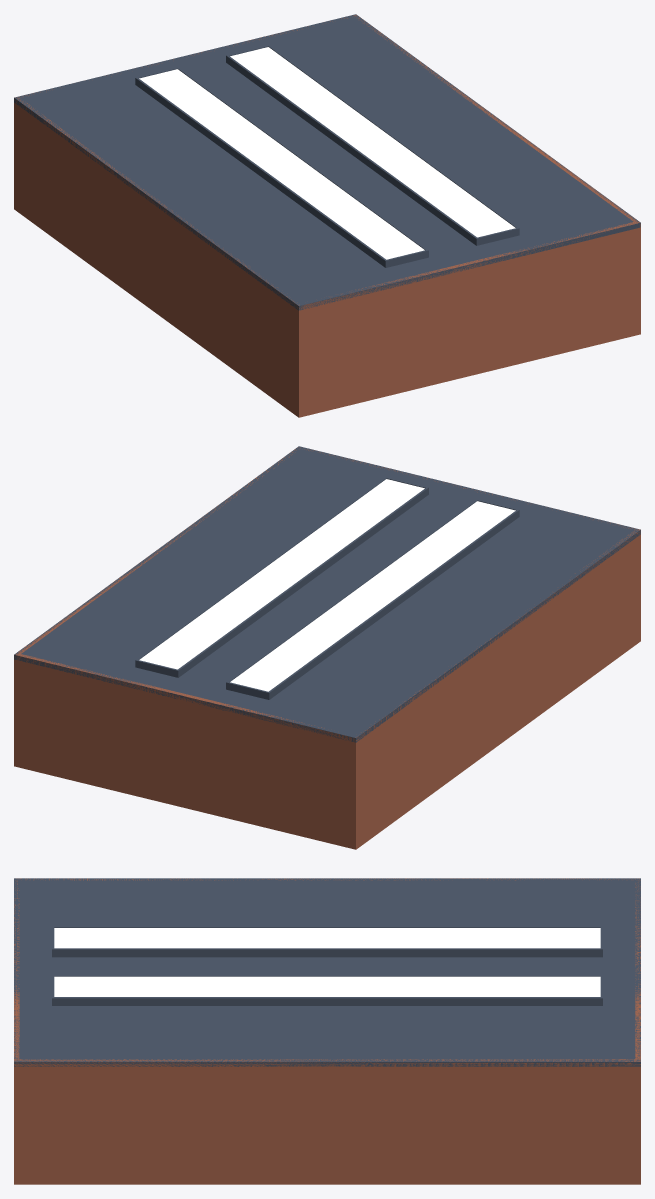
The model's file is map_lockwell.glb.
3 renders of one model, top to bottom at view 1: azimuth 30°, elevation 25°; view 2: azimuth 150°, elevation 25°; view 3: azimuth 270°, elevation 25°, orthographic. The views are drawn at different scales.
Parts seen in each view (by area): view 1: solid_shell_roof, solid_shell_wall_n, solid_shell_wall_w, deco_skylights, solid_shell_wall_e; view 2: solid_shell_roof, solid_shell_wall_s, solid_shell_wall_w, deco_skylights, solid_shell_wall_e; view 3: solid_shell_roof, solid_shell_wall_e, deco_skylights, solid_shell_wall_n, solid_shell_wall_s.
Boxes of the visible parts, <box> form: solid_shell_roof: <box>14,14,640,310</box>; solid_shell_wall_n: <box>303,222,636,416</box>; solid_shell_wall_w: <box>14,97,303,417</box>; deco_skylights: <box>139,47,515,259</box>; solid_shell_wall_e: <box>353,14,640,335</box>; solid_shell_roof: <box>14,446,640,742</box>; solid_shell_wall_s: <box>18,654,351,848</box>; solid_shell_wall_w: <box>351,529,640,849</box>; deco_skylights: <box>139,479,515,691</box>; solid_shell_wall_e: <box>14,447,300,767</box>; solid_shell_roof: <box>14,878,640,1066</box>; solid_shell_wall_e: <box>14,1059,640,1184</box>; deco_skylights: <box>54,928,600,996</box>; solid_shell_wall_n: <box>14,880,19,1059</box>; solid_shell_wall_s: <box>635,882,640,1059</box>.
Size of the model in its own units: 45.2 by 15 by 65.2.
